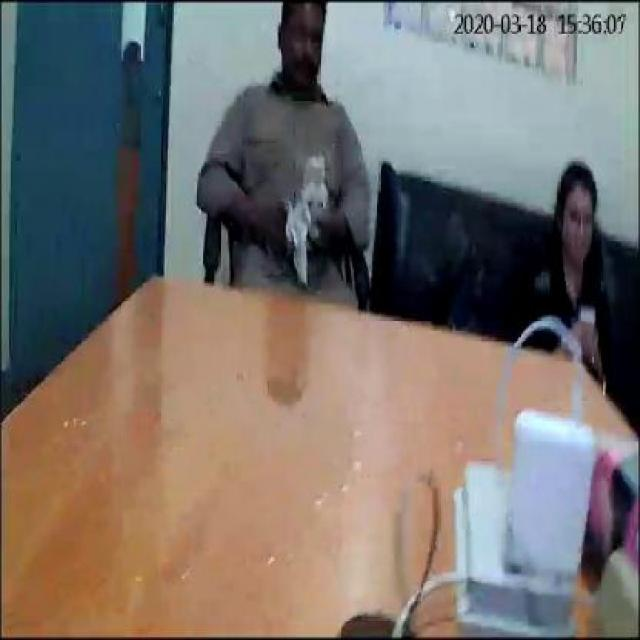spill: (84, 373, 366, 595)
